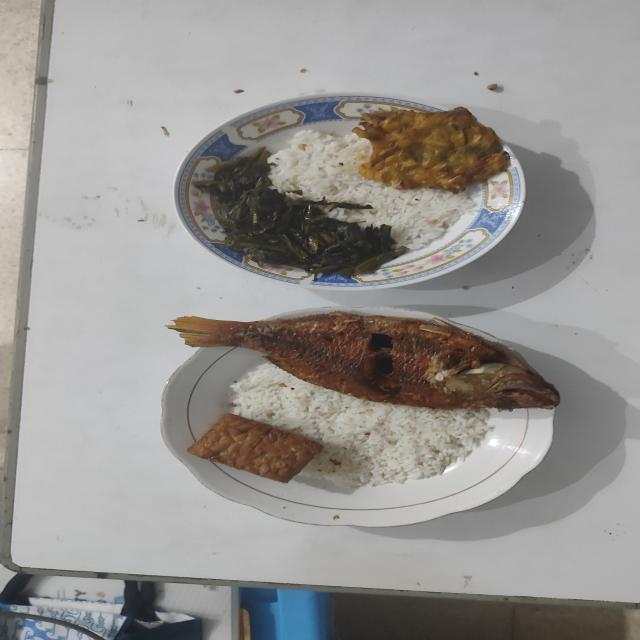ikan_mujair: (168, 310, 560, 410)
nasi_putih: (231, 364, 494, 488), (270, 130, 474, 250)
tempe_goreng: (188, 413, 322, 482)
tumis_kangkung: (192, 148, 406, 280)
